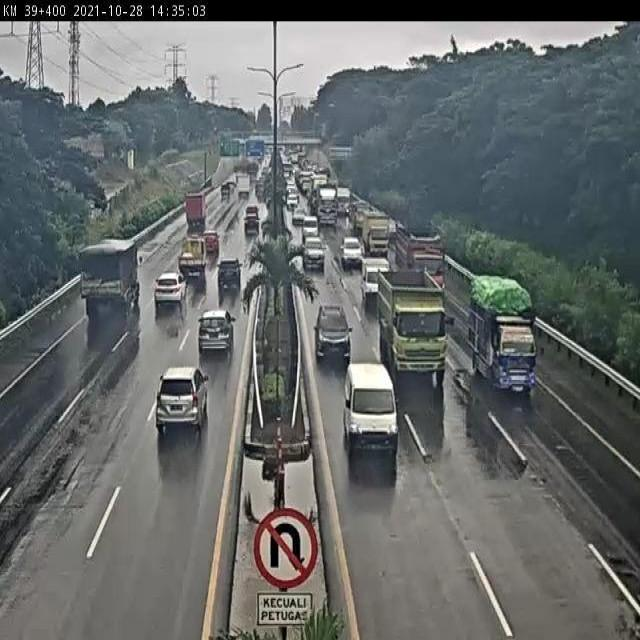big truck: (379, 270, 454, 386), (79, 233, 148, 332), (396, 226, 448, 286)
car: (336, 360, 406, 461), (152, 365, 214, 440), (313, 299, 357, 373), (196, 306, 237, 358), (359, 256, 391, 308), (212, 253, 244, 303), (149, 264, 184, 307), (303, 233, 328, 280), (338, 232, 365, 272), (236, 207, 260, 236), (202, 229, 223, 255)
small truck: (465, 273, 540, 408), (182, 231, 209, 289), (365, 215, 395, 264)
